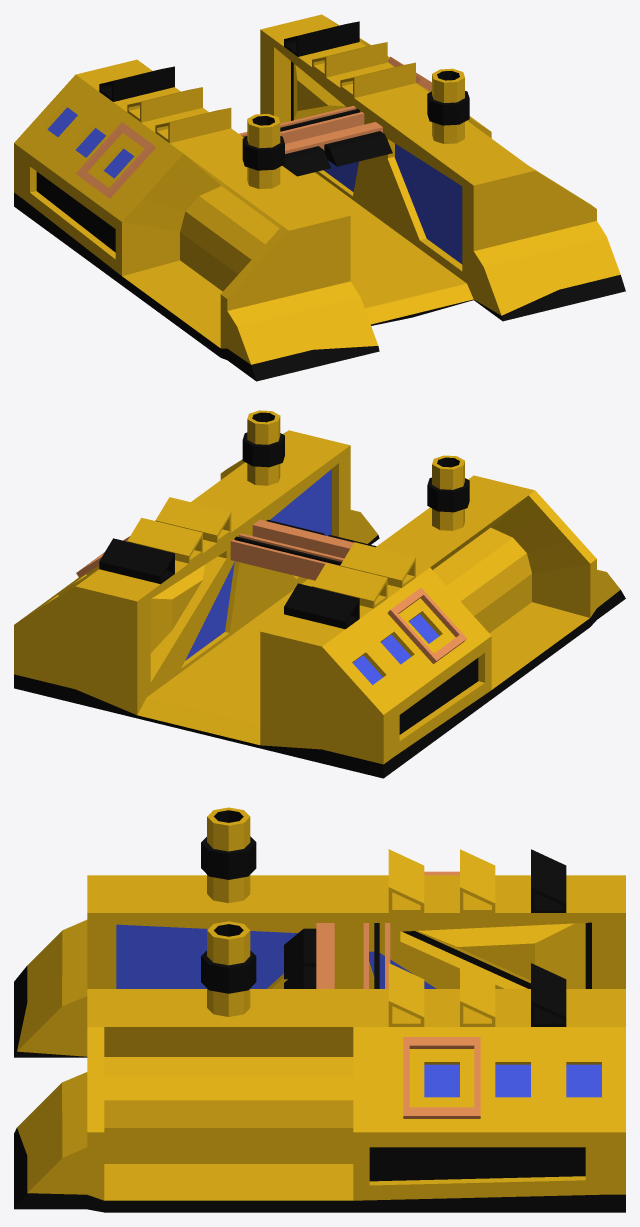
The model's file is ammo factory v 1.0..fbx.
3 renders of one model, top to bottom at view 1: azimuth 30°, elevation 25°; view 2: azimuth 150°, elevation 25°; view 3: azimuth 270°, elevation 25°, orthographic. The views are drawn at different scales.
Parts seen in each view (by area): view 1: ammo factoryd1; view 2: ammo factoryd1; view 3: ammo factoryd1.
Part boxes in pixels (x1,y1,x2,y2): ammo factoryd1: (14,14,625,381); ammo factoryd1: (14,410,625,778); ammo factoryd1: (14,807,625,1212).
Bounding box in the file's own units: 5495 × 2535 × 6242.
